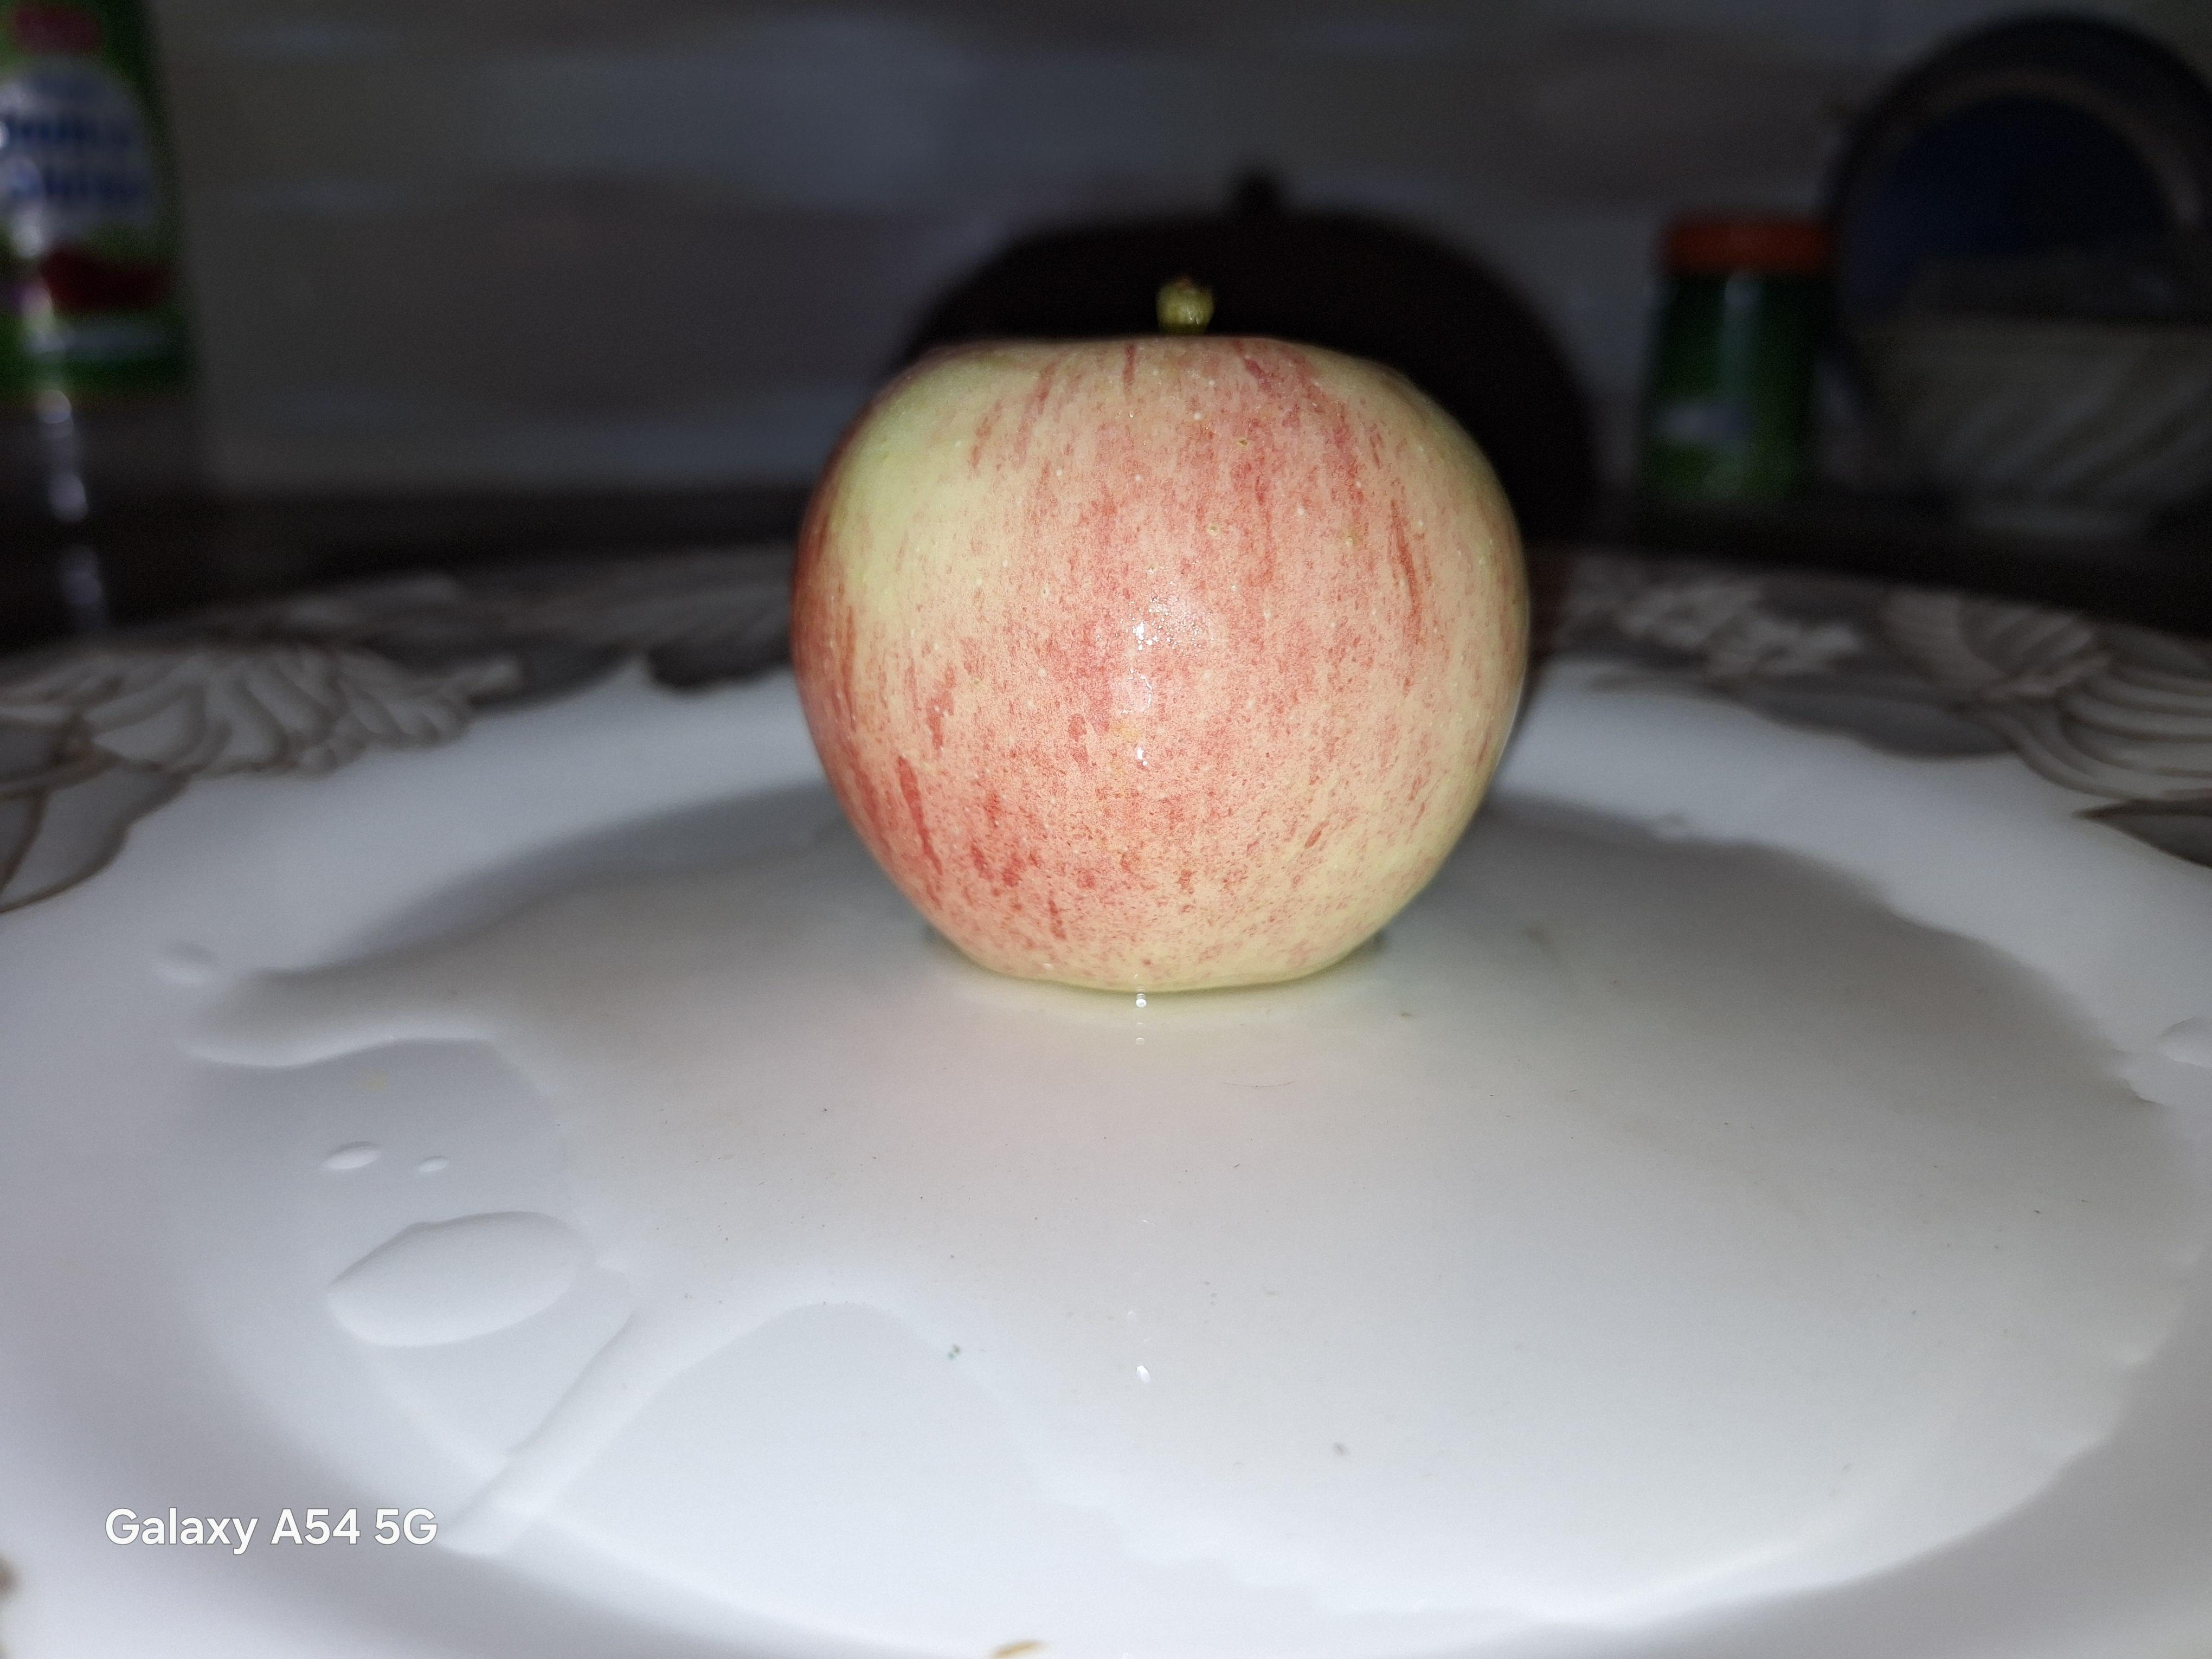non-mango: (791, 251, 1543, 993)
